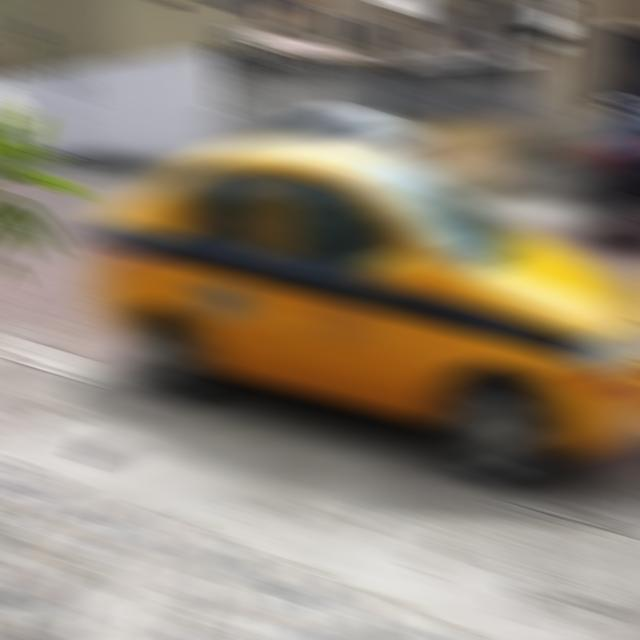Taxi: (76, 111, 640, 507)
